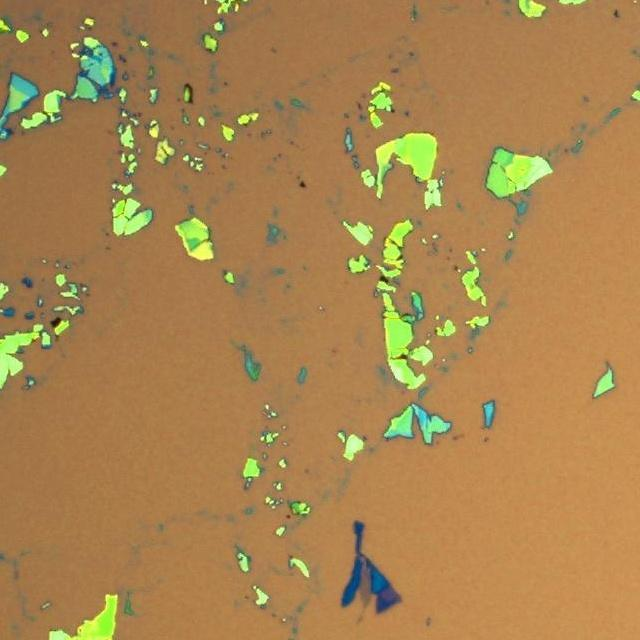monolayer-eWW4: (360, 562, 372, 612)
